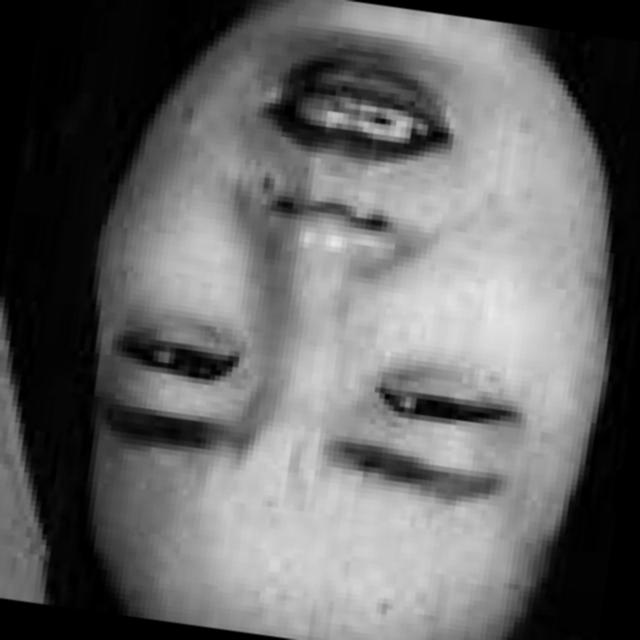disgust: (62, 0, 605, 625)
